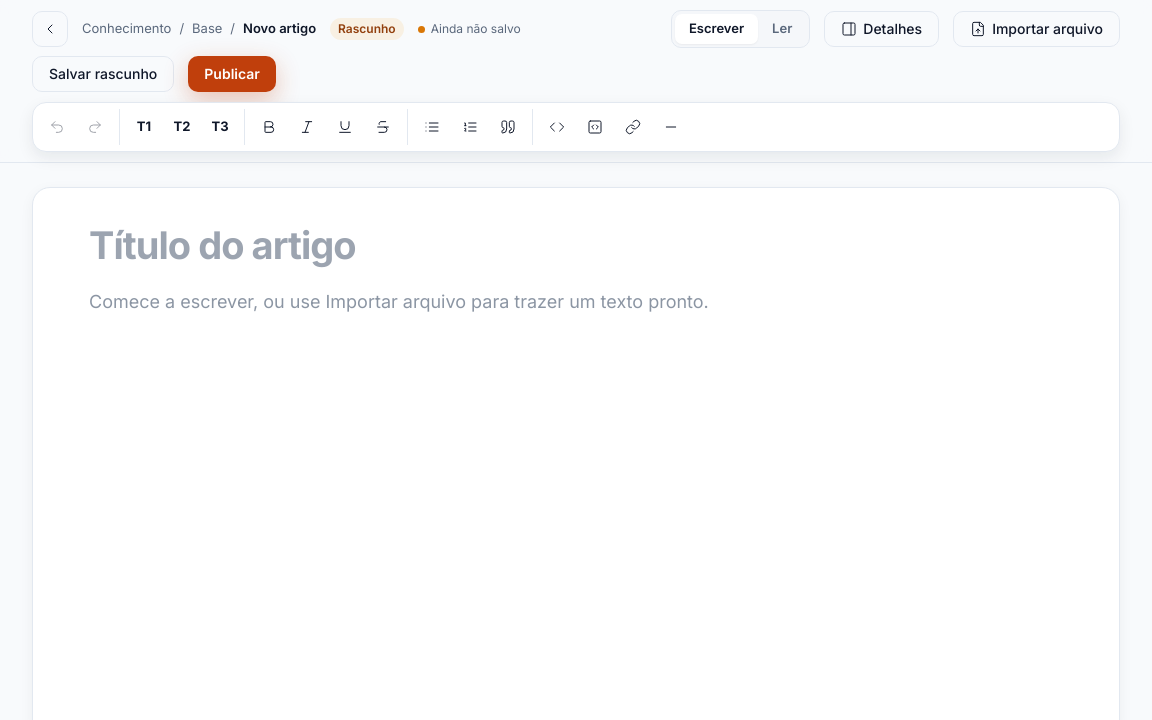
ArticleEditor: artigo novo › sem título e sem texto mostra as mensagens na tela e não salva
Expected: the element named "Formatação" is shown, [32,102,1120,152]
Click the button "Publicar" at point(232, 74), box [188,56,276,92]
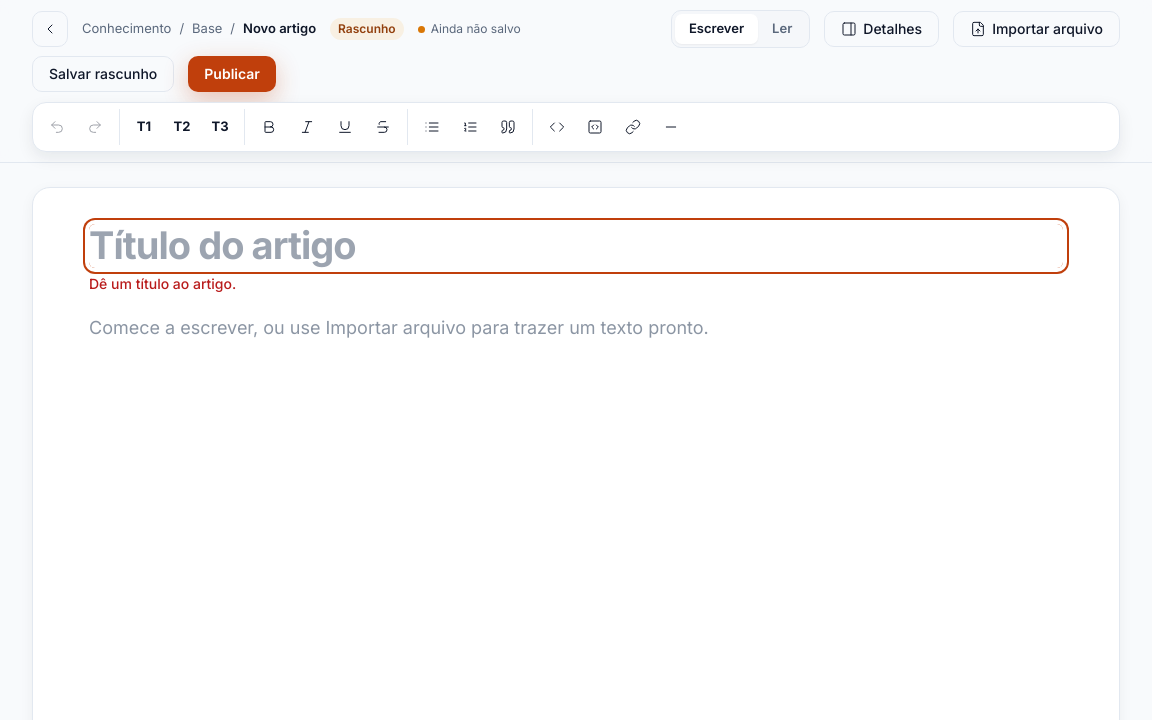
Expected: the text "Dê um título ao artigo." is shown, [89,275,236,292]
